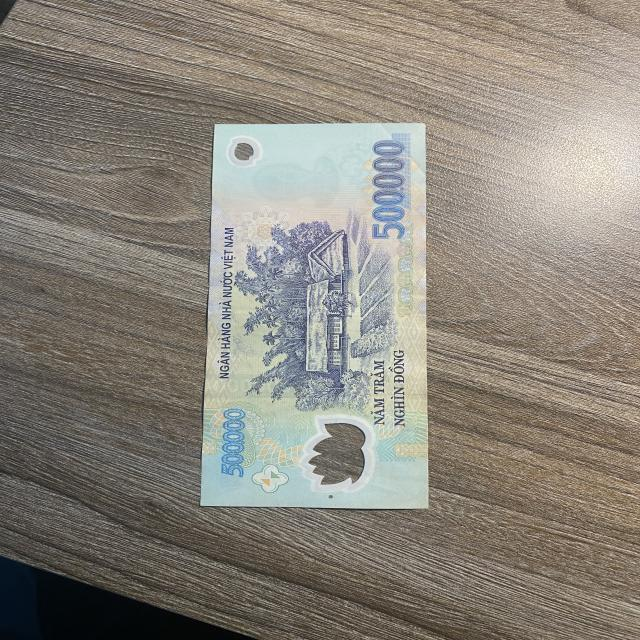500 000 VND: (198, 122, 432, 511)
